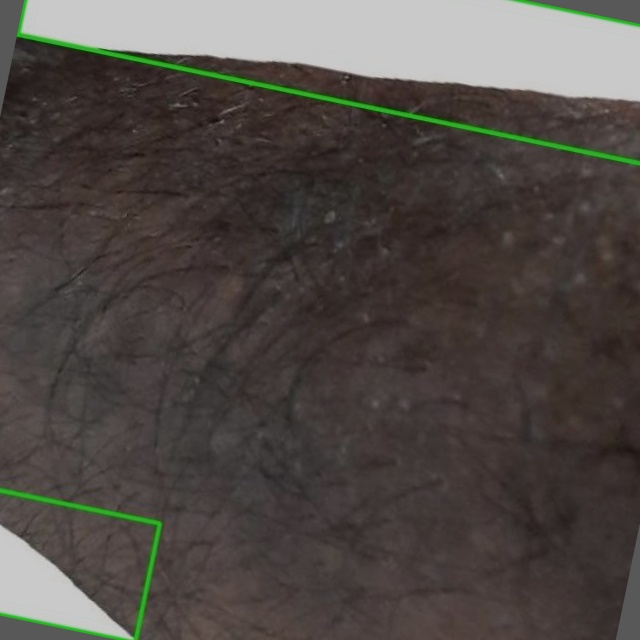Contact Dermatitis: (17, 0, 639, 163), (0, 490, 159, 639)
